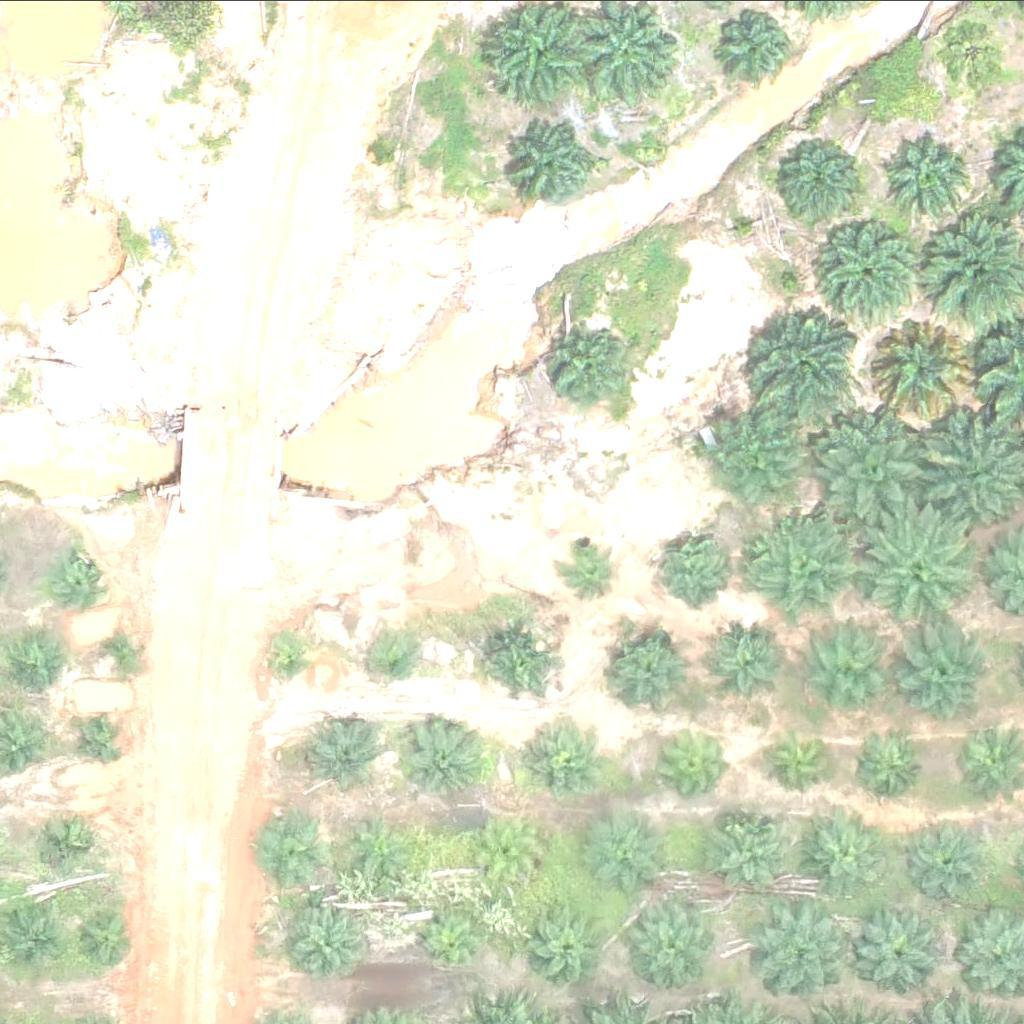Kelapa_Sawit: (851, 505, 977, 630), (736, 302, 862, 427), (816, 413, 941, 538), (865, 312, 978, 425), (699, 401, 813, 513), (815, 212, 929, 324), (751, 511, 864, 623), (485, 2, 586, 102), (807, 624, 907, 724), (612, 622, 700, 710), (805, 810, 893, 898), (762, 904, 850, 992), (851, 907, 939, 995), (510, 119, 598, 207), (631, 899, 720, 986), (709, 619, 797, 706), (551, 321, 639, 408), (710, 2, 798, 89), (897, 628, 985, 715), (713, 812, 801, 899), (907, 820, 995, 907), (284, 896, 372, 983), (880, 128, 968, 215), (775, 133, 863, 220), (306, 718, 382, 793), (487, 627, 563, 702), (851, 729, 927, 804), (763, 723, 839, 798), (650, 525, 726, 600), (403, 718, 479, 793), (933, 14, 1009, 89), (530, 910, 605, 985), (594, 813, 669, 888), (521, 726, 596, 801), (654, 720, 729, 795), (75, 906, 138, 969), (256, 817, 319, 880), (2, 626, 65, 689), (478, 821, 541, 884), (352, 812, 415, 874), (37, 812, 100, 874), (559, 533, 622, 595), (418, 913, 480, 975), (72, 712, 123, 762), (93, 626, 144, 676), (59, 555, 109, 605), (267, 633, 317, 683), (374, 637, 424, 687)
